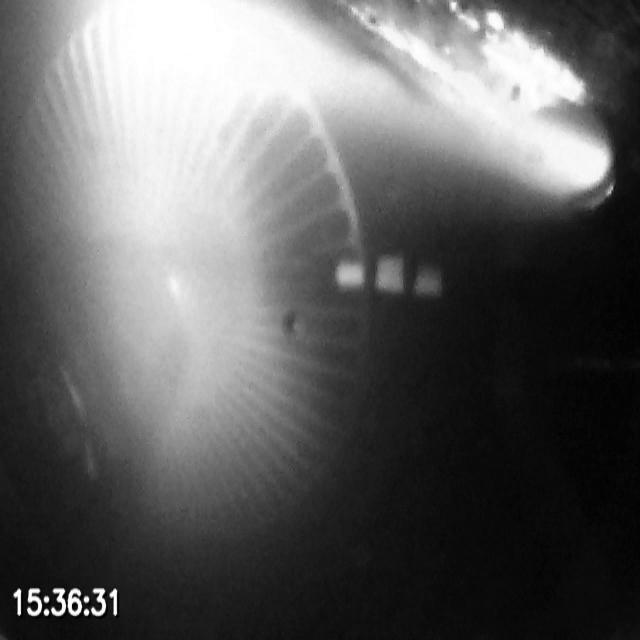white-dots: (332, 252, 446, 302)
